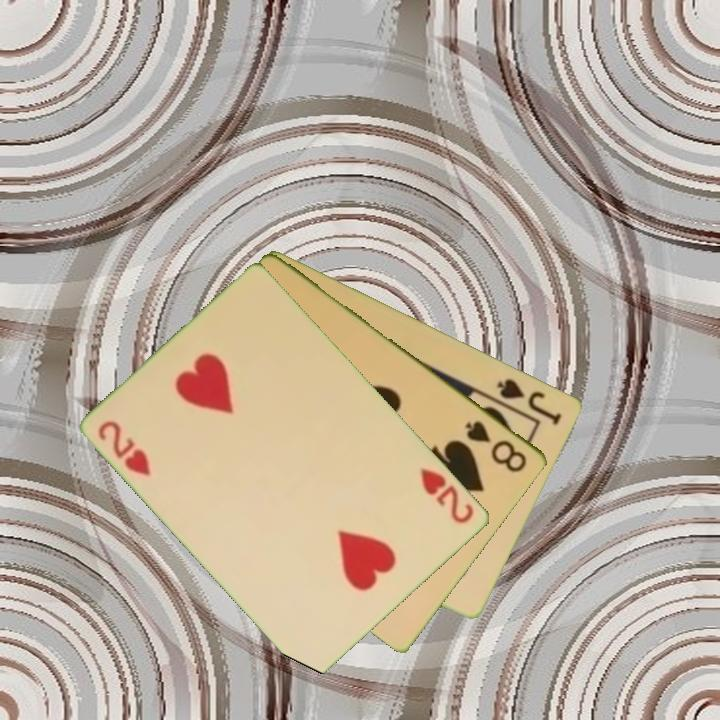2h: (417, 464, 477, 527), (95, 417, 154, 479)
8s: (462, 417, 531, 476)
Js: (493, 374, 566, 428)
